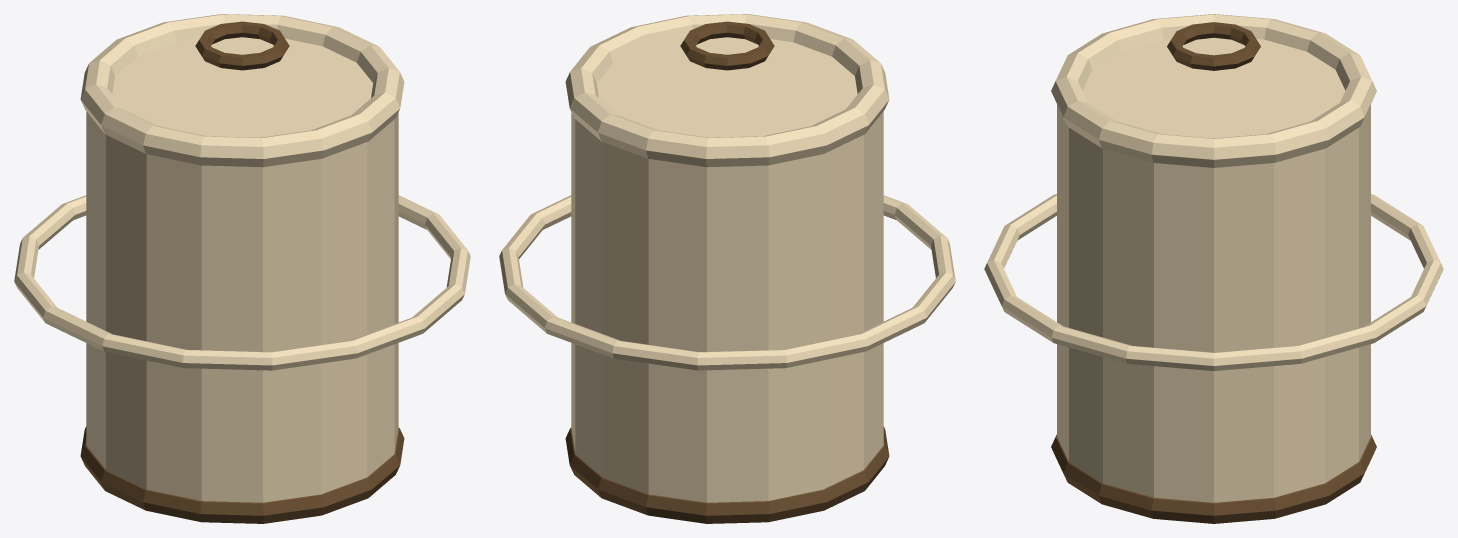
File: lantern_paper.glb
3 renders of one model, left to right at view 1: azimuth 30°, elevation 25°; view 2: azimuth 150°, elevation 25°; view 3: azimuth 270°, elevation 25°, orthographic.
Visible parts, largest first — view 1: lantern_paper; view 2: lantern_paper; view 3: lantern_paper.
Boxes of the visible parts, <box> form: lantern_paper: <box>14,14,470,523</box>; lantern_paper: <box>499,14,955,523</box>; lantern_paper: <box>984,14,1443,523</box>.
Size of the model in its own units: 0.234 by 0.2365 by 0.234.
